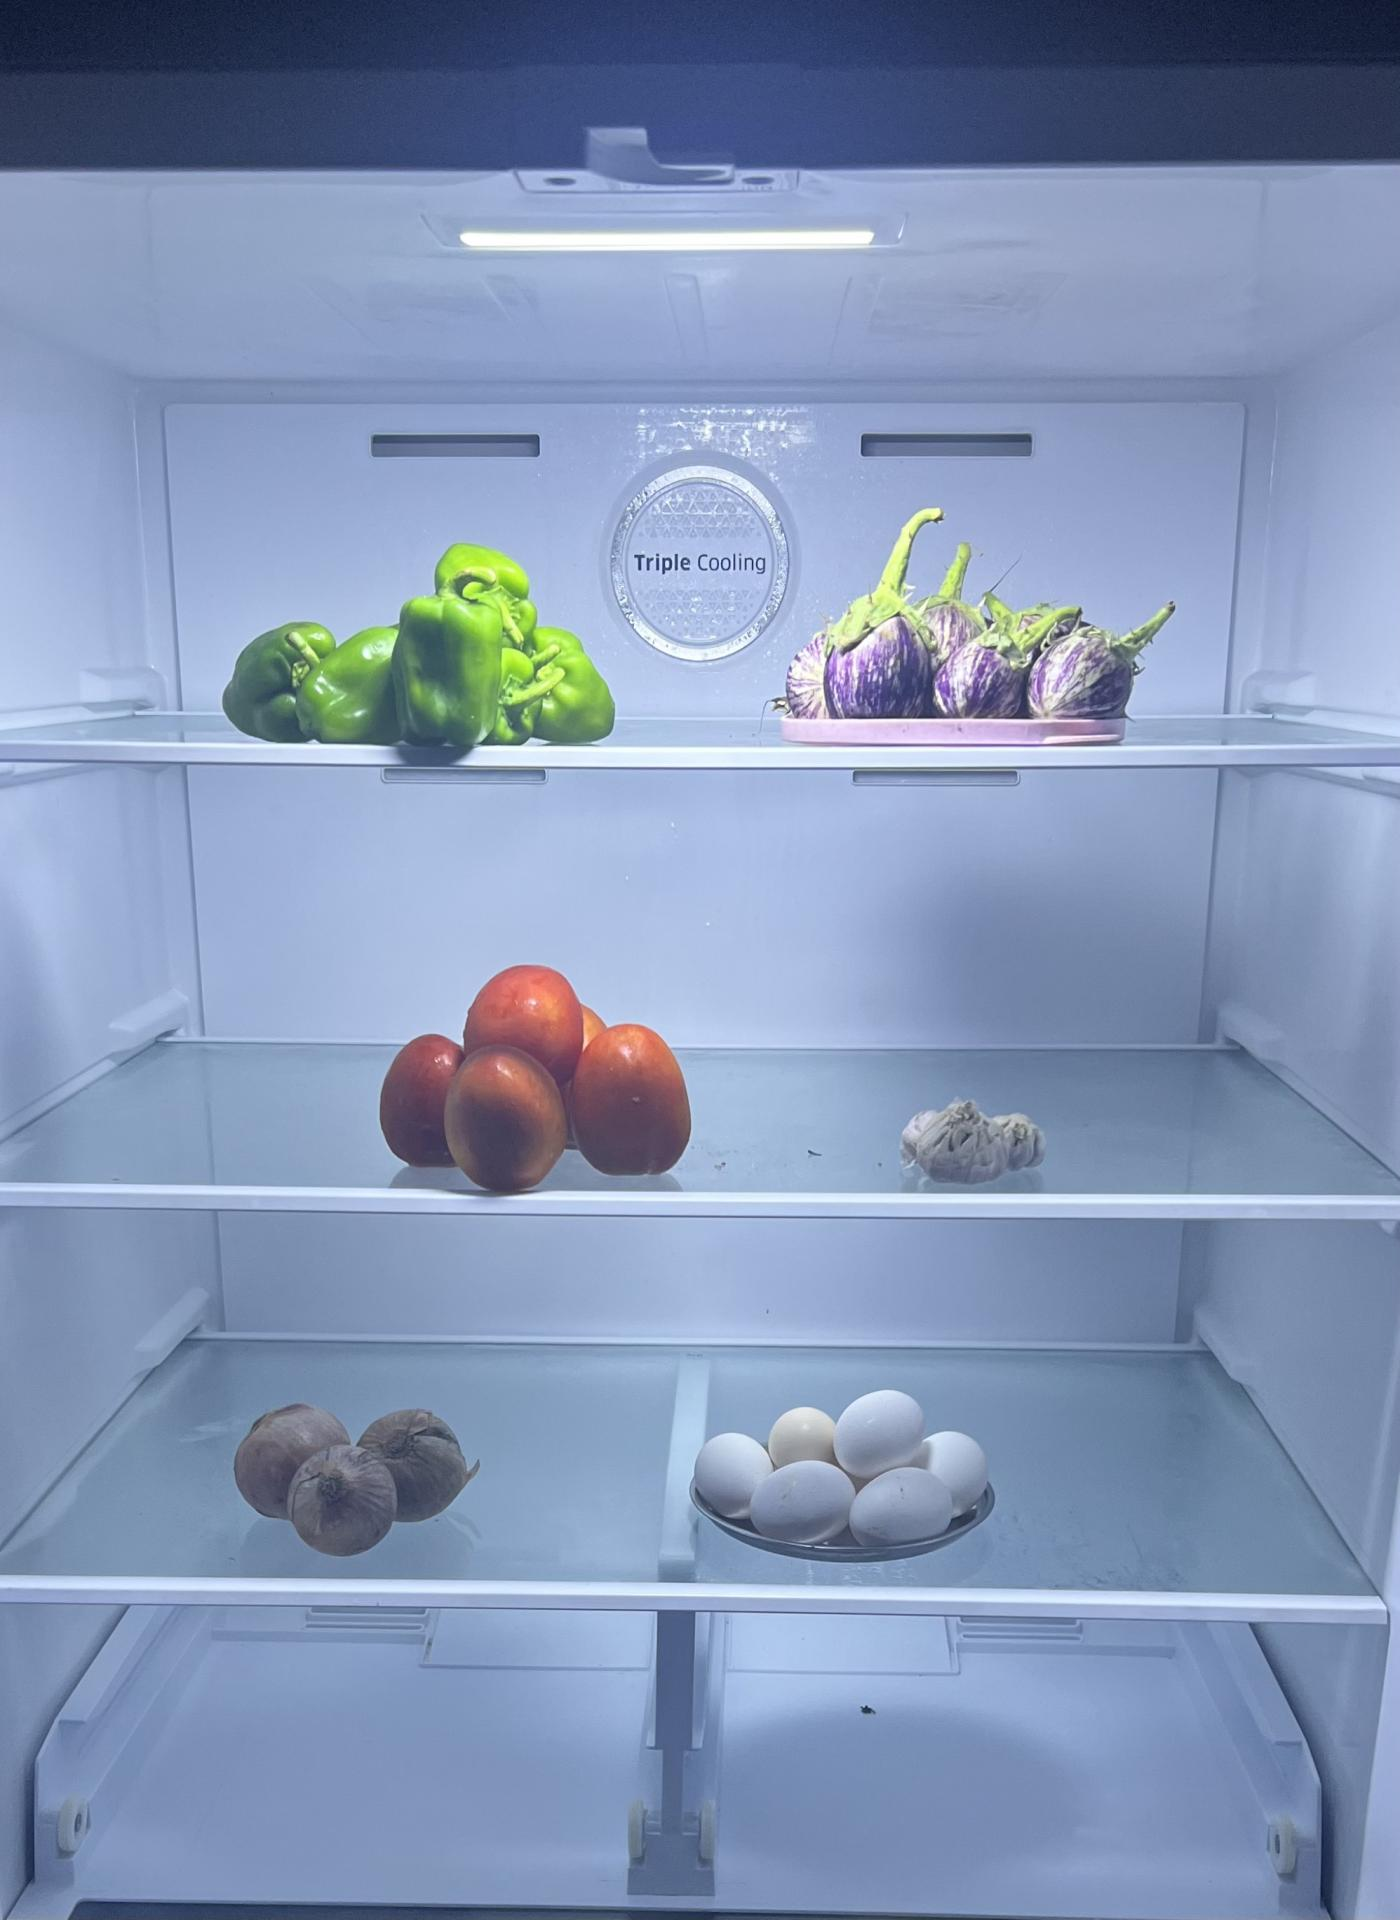brinjal: (783, 586, 1136, 733)
capsicum: (224, 592, 623, 759)
egg: (695, 1377, 1000, 1541)
ginger: (899, 1088, 1054, 1191)
onion: (233, 1394, 461, 1550)
tomato: (374, 960, 701, 1196)
